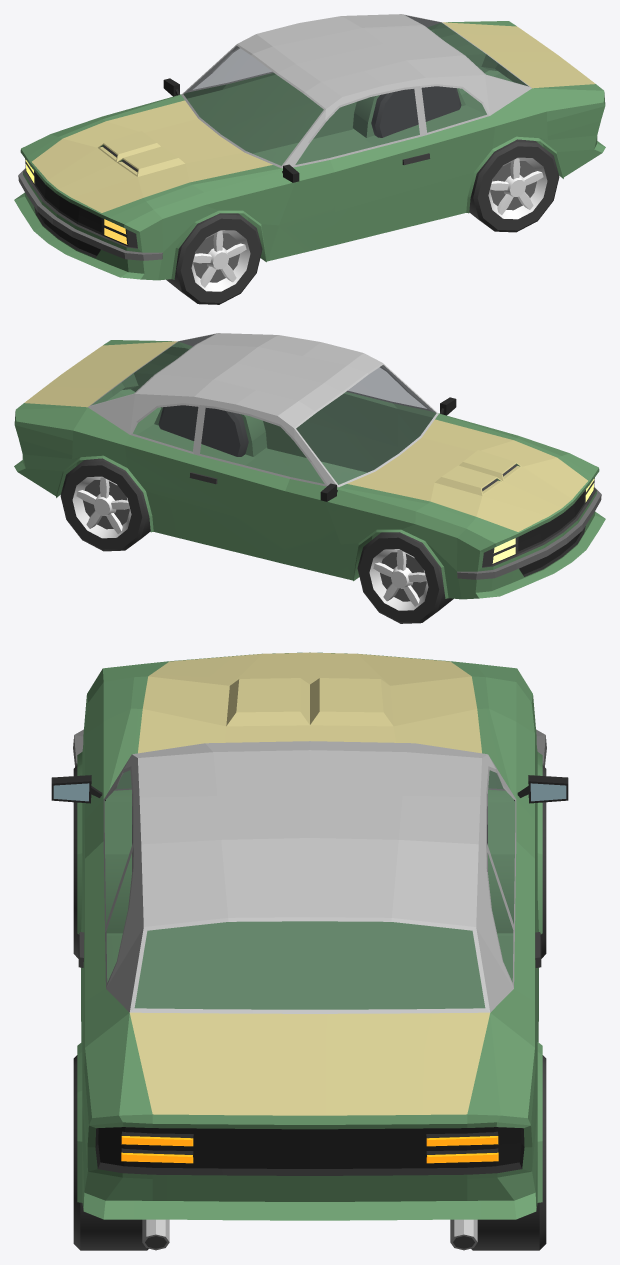
The model's file is muscle-car.glb.
3 renders of one model, top to bottom at view 1: azimuth 30°, elevation 25°; view 2: azimuth 150°, elevation 25°; view 3: azimuth 270°, elevation 25°, orthographic. The views are drawn at different scales.
Parts seen in each view (by area): view 1: N_Muscle Car_10, N_Muscle Car_10 BL Tire, N_Muscle Car_10 FL Tire, N_Muscle Car_10 BR Tire; view 2: N_Muscle Car_10, N_Muscle Car_10 BR Tire, N_Muscle Car_10 FR Tire, N_Muscle Car_10 BL Tire; view 3: N_Muscle Car_10, N_Muscle Car_10 BL Tire, N_Muscle Car_10 BR Tire, N_Muscle Car_10 FL Tire, N_Muscle Car_10 FR Tire.
Part boxes in pixels (left/top/right/bottom): N_Muscle Car_10: left=14, top=14, right=605, bottom=280; N_Muscle Car_10 BL Tire: left=469, top=139, right=559, bottom=232; N_Muscle Car_10 FL Tire: left=166, top=213, right=262, bottom=304; N_Muscle Car_10 BR Tire: left=371, top=86, right=461, bottom=137; N_Muscle Car_10: left=14, top=333, right=605, bottom=599; N_Muscle Car_10 BR Tire: left=60, top=458, right=150, bottom=551; N_Muscle Car_10 FR Tire: left=357, top=532, right=453, bottom=623; N_Muscle Car_10 BL Tire: left=158, top=405, right=248, bottom=456; N_Muscle Car_10: left=51, top=652, right=568, bottom=1250; N_Muscle Car_10 BL Tire: left=73, top=1055, right=148, bottom=1250; N_Muscle Car_10 BR Tire: left=471, top=1055, right=546, bottom=1250; N_Muscle Car_10 FL Tire: left=73, top=765, right=132, bottom=958; N_Muscle Car_10 FR Tire: left=487, top=765, right=546, bottom=958.
Bounding box in the file's own units: 4.79 × 1.48 × 2.09.
Materials: 3 (2 with a texture image).
